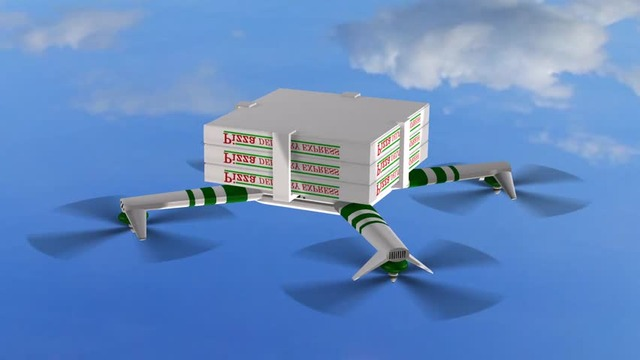drone: (26, 87, 590, 323)
